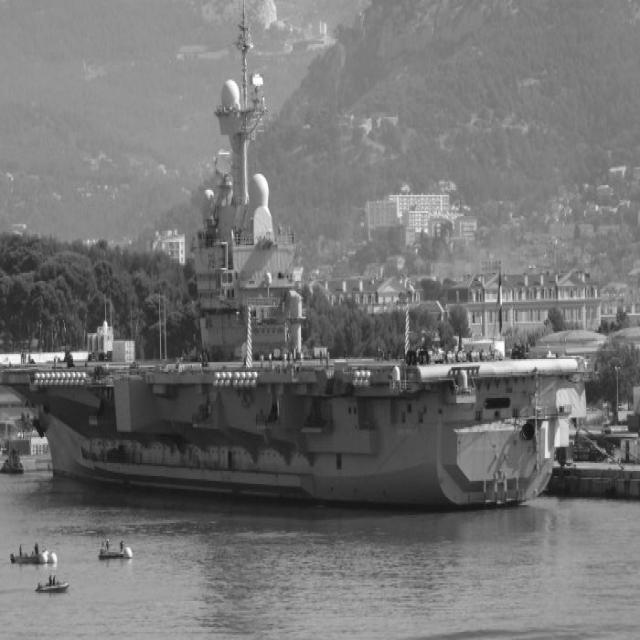Portanaves: (1, 1, 587, 516)
